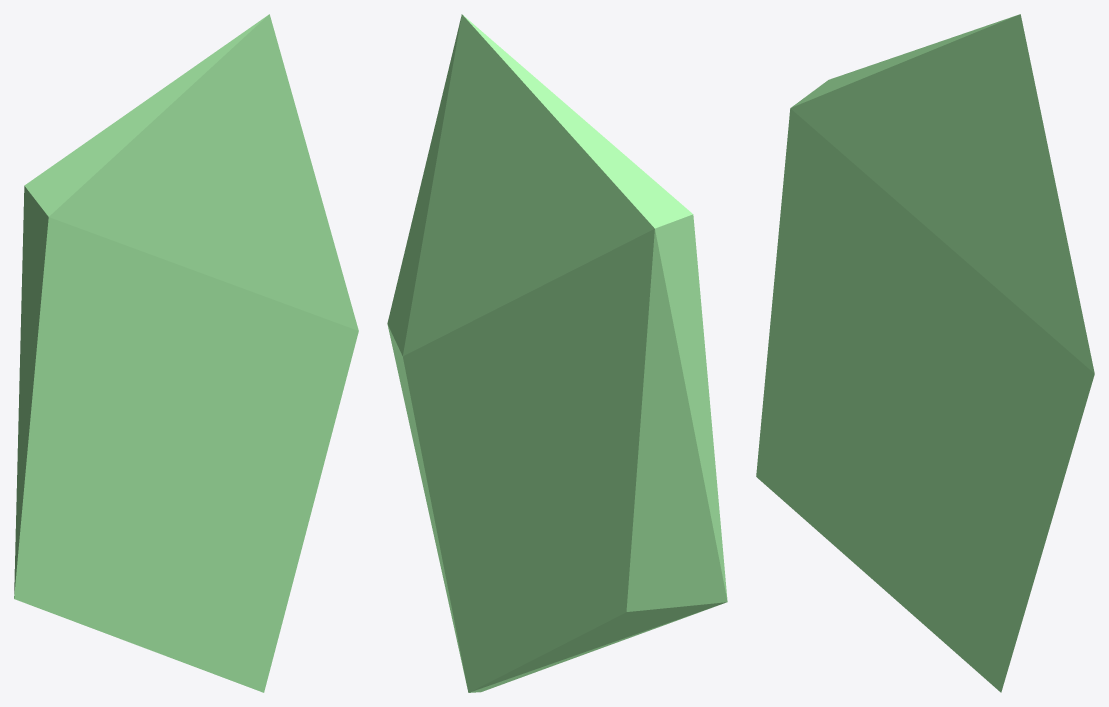
The model's file is linkhou_LR4_R560_link2_respondable_coll_23.dae.
3 renders of one model, left to right at view 1: azimuth 30°, elevation 25°; view 2: azimuth 150°, elevation 25°; view 3: azimuth 330°, elevation 25°, orthographic.
Parts seen in each view (by area): view 1: Node_00000209DB3ABE50; view 2: Node_00000209DB3ABE50; view 3: Node_00000209DB3ABE50.
Boxes of the visible parts, bbox=[...] form: Node_00000209DB3ABE50: bbox=[14, 14, 358, 692]; Node_00000209DB3ABE50: bbox=[387, 14, 727, 692]; Node_00000209DB3ABE50: bbox=[756, 14, 1094, 692].
Bounding box in the file's own units: 0.0427 × 0.0805 × 0.00768.
